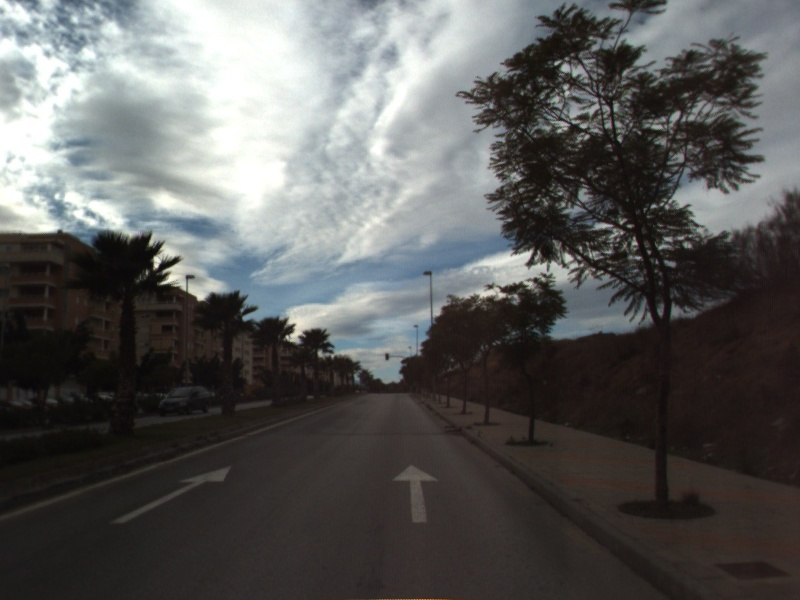STRAIGHT: (109, 464, 233, 525), (390, 462, 441, 525)
